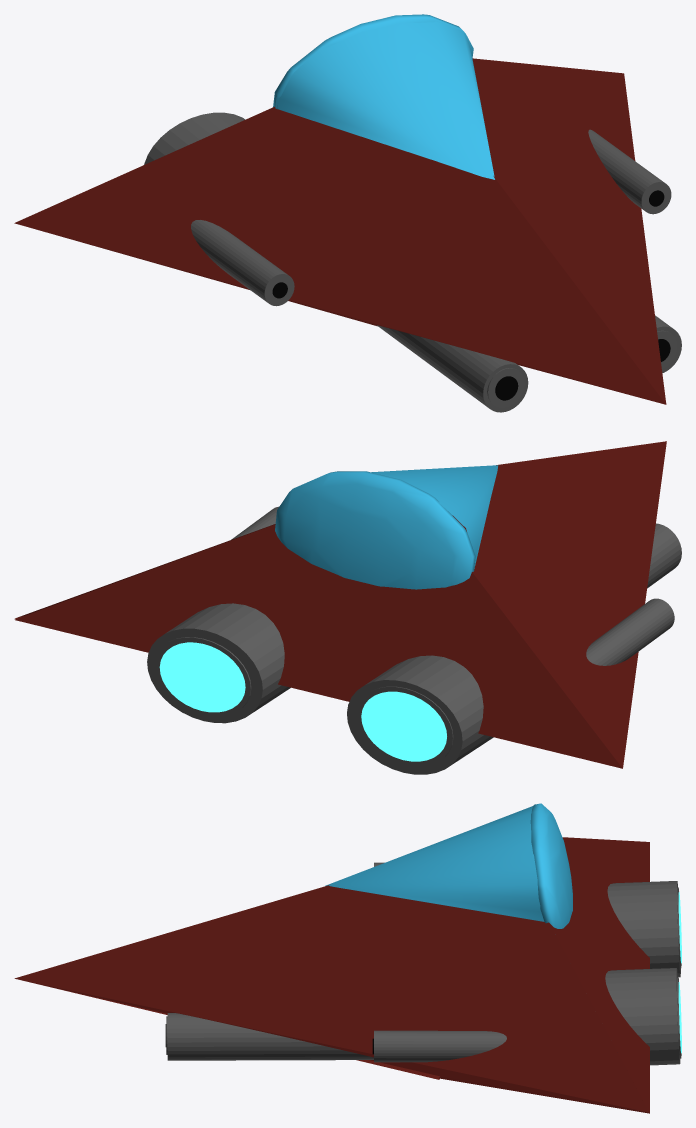
File: nave roja.fbx
3 views of the same model, one above another, from view 1: azimuth 30°, elevation 25°; view 2: azimuth 150°, elevation 25°; view 3: azimuth 270°, elevation 25° (orthographic). The views are drawn at different scales.
Parts seen in each view (by area): view 1: Plane.001, Cone, Cylinder.005, Cylinder.002, Cylinder.003, Cylinder, Mball, Cylinder.007; view 2: Plane.001, Mball, Cylinder.001, Cylinder, Cylinder.012, Cylinder.013, Cone, Cylinder.002, Cylinder.014, Cylinder.015, Cylinder.005; view 3: Plane.001, Cone, Cylinder.004, Cylinder.001, Cylinder, Mball, Cylinder.003.
Boxes of the visible parts, bbox=[...] form: Plane.001: bbox=[14, 58, 666, 404]; Cone: bbox=[275, 21, 494, 179]; Cylinder.005: bbox=[376, 325, 528, 412]; Cylinder.002: bbox=[191, 220, 294, 306]; Cylinder.003: bbox=[588, 129, 671, 214]; Cylinder: bbox=[144, 112, 245, 164]; Mball: bbox=[273, 14, 473, 109]; Cylinder.007: bbox=[487, 368, 524, 407]; Plane.001: bbox=[14, 441, 666, 768]; Mball: bbox=[275, 471, 475, 589]; Cylinder.001: bbox=[147, 603, 290, 723]; Cylinder: bbox=[347, 655, 493, 774]; Cylinder.012: bbox=[159, 642, 245, 712]; Cylinder.013: bbox=[361, 691, 446, 761]; Cone: bbox=[371, 465, 498, 571]; Cylinder.002: bbox=[586, 598, 674, 665]; Cylinder.014: bbox=[153, 637, 251, 716]; Cylinder.015: bbox=[356, 686, 453, 765]; Cylinder.005: bbox=[647, 523, 681, 588]; Plane.001: bbox=[14, 837, 649, 1113]; Cone: bbox=[325, 806, 544, 921]; Cylinder.004: bbox=[167, 1013, 373, 1060]; Cylinder.001: bbox=[605, 968, 680, 1065]; Cylinder: bbox=[607, 881, 680, 977]; Mball: bbox=[530, 803, 572, 928]; Cylinder.003: bbox=[374, 1030, 506, 1062].
Bounding box in the file's own units: 6.01 × 2.68 × 6.24.
